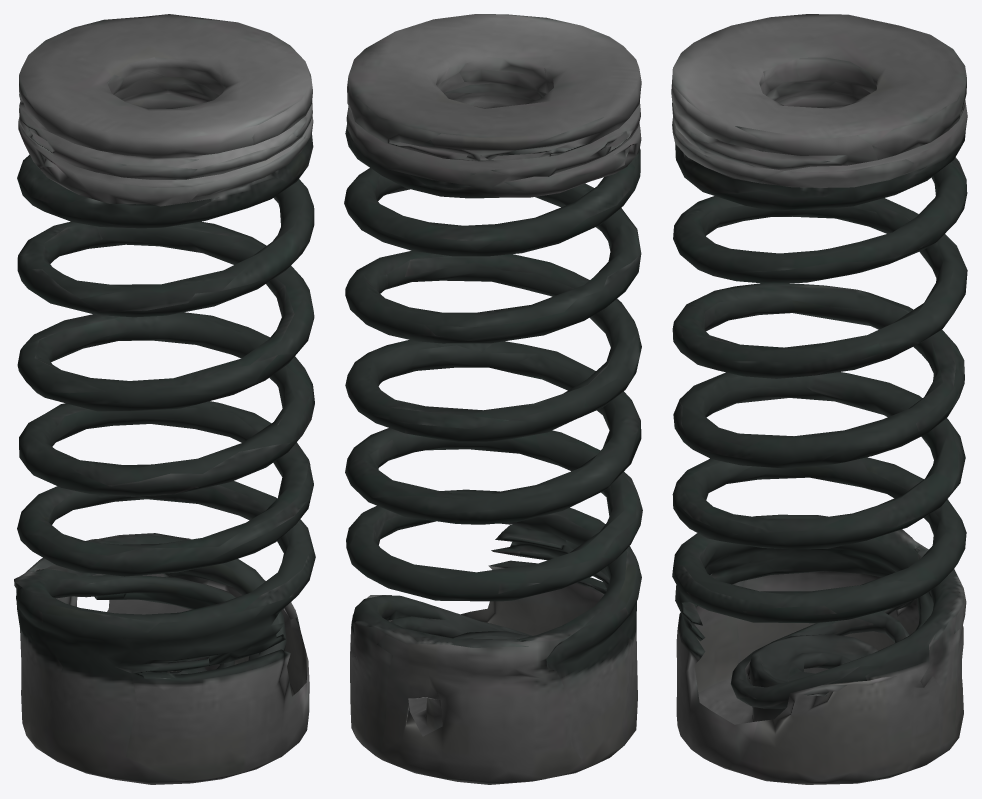
File: kn_kinetic_ram.glb
The picture shows the model from 3 angles, left to right: view 1: azimuth 30°, elevation 25°; view 2: azimuth 150°, elevation 25°; view 3: azimuth 270°, elevation 25°; orthographic projection.
Parts seen in each view (by area): view 1: geometry_0; view 2: geometry_0; view 3: geometry_0.
Boxes of the visible parts, bbox=[...] form: geometry_0: bbox=[14, 14, 315, 784]; geometry_0: bbox=[344, 14, 642, 784]; geometry_0: bbox=[671, 14, 967, 784].
Bounding box in the file's own units: 0.4157 × 1 × 0.4108.
1 material, 1 textured.
